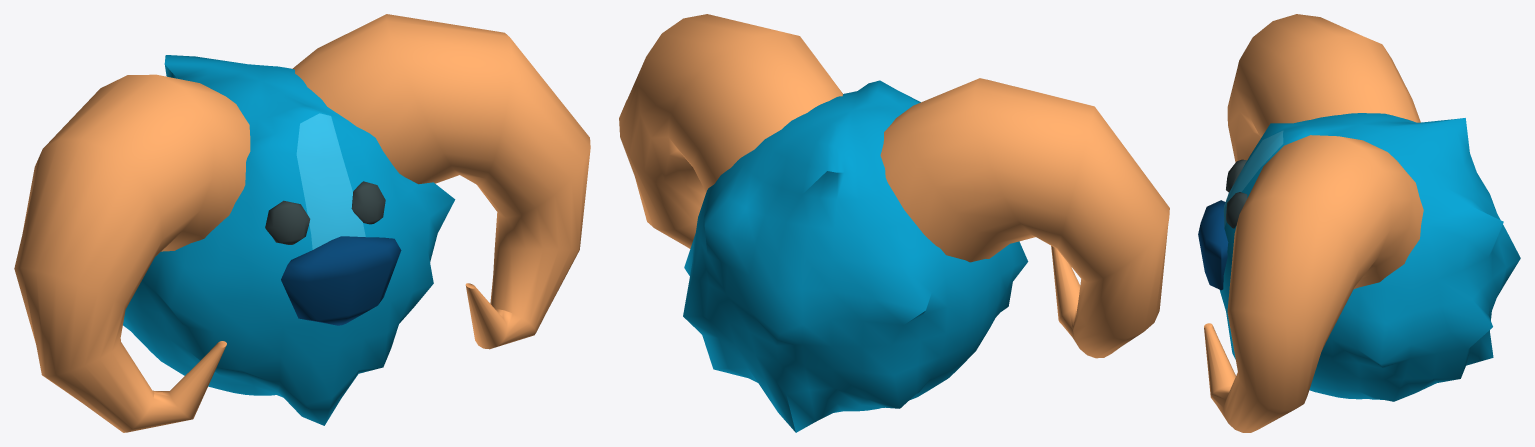
The model's file is Monster.fbx.
3 renders of one model, left to right at view 1: azimuth 30°, elevation 25°; view 2: azimuth 150°, elevation 25°; view 3: azimuth 270°, elevation 25°, orthographic. The views are drawn at different scales.
Parts seen in each view (by area): view 1: Body; view 2: Body; view 3: Body.
Boxes of the visible parts, x1,y1,x2,y2 form: Body: [14, 14, 590, 432]; Body: [619, 14, 1169, 432]; Body: [1198, 14, 1520, 432].
Bounding box in the file's own units: 2.03 × 1.19 × 1.16.
